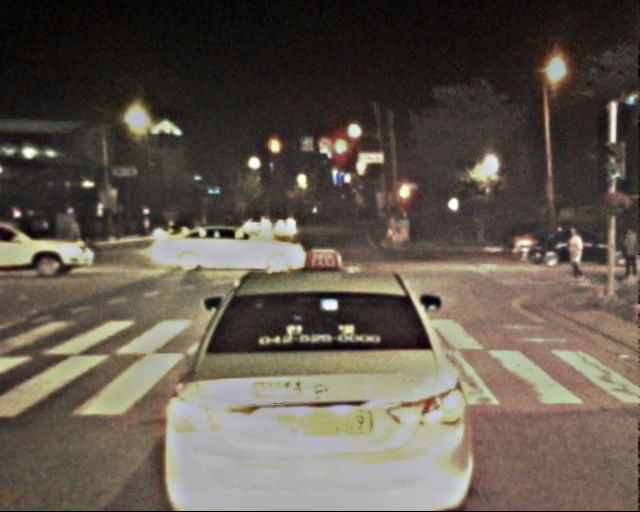person: (564, 225, 589, 286), (617, 227, 639, 285)
